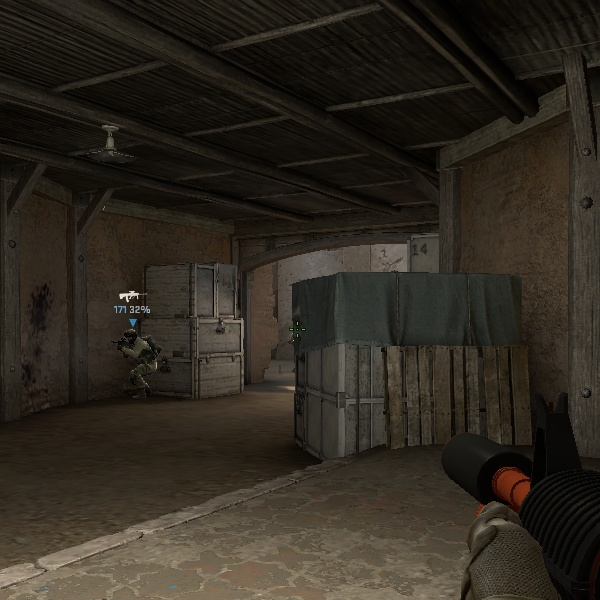ct_body: (117, 329, 159, 395)
ct_head: (124, 329, 138, 344)
